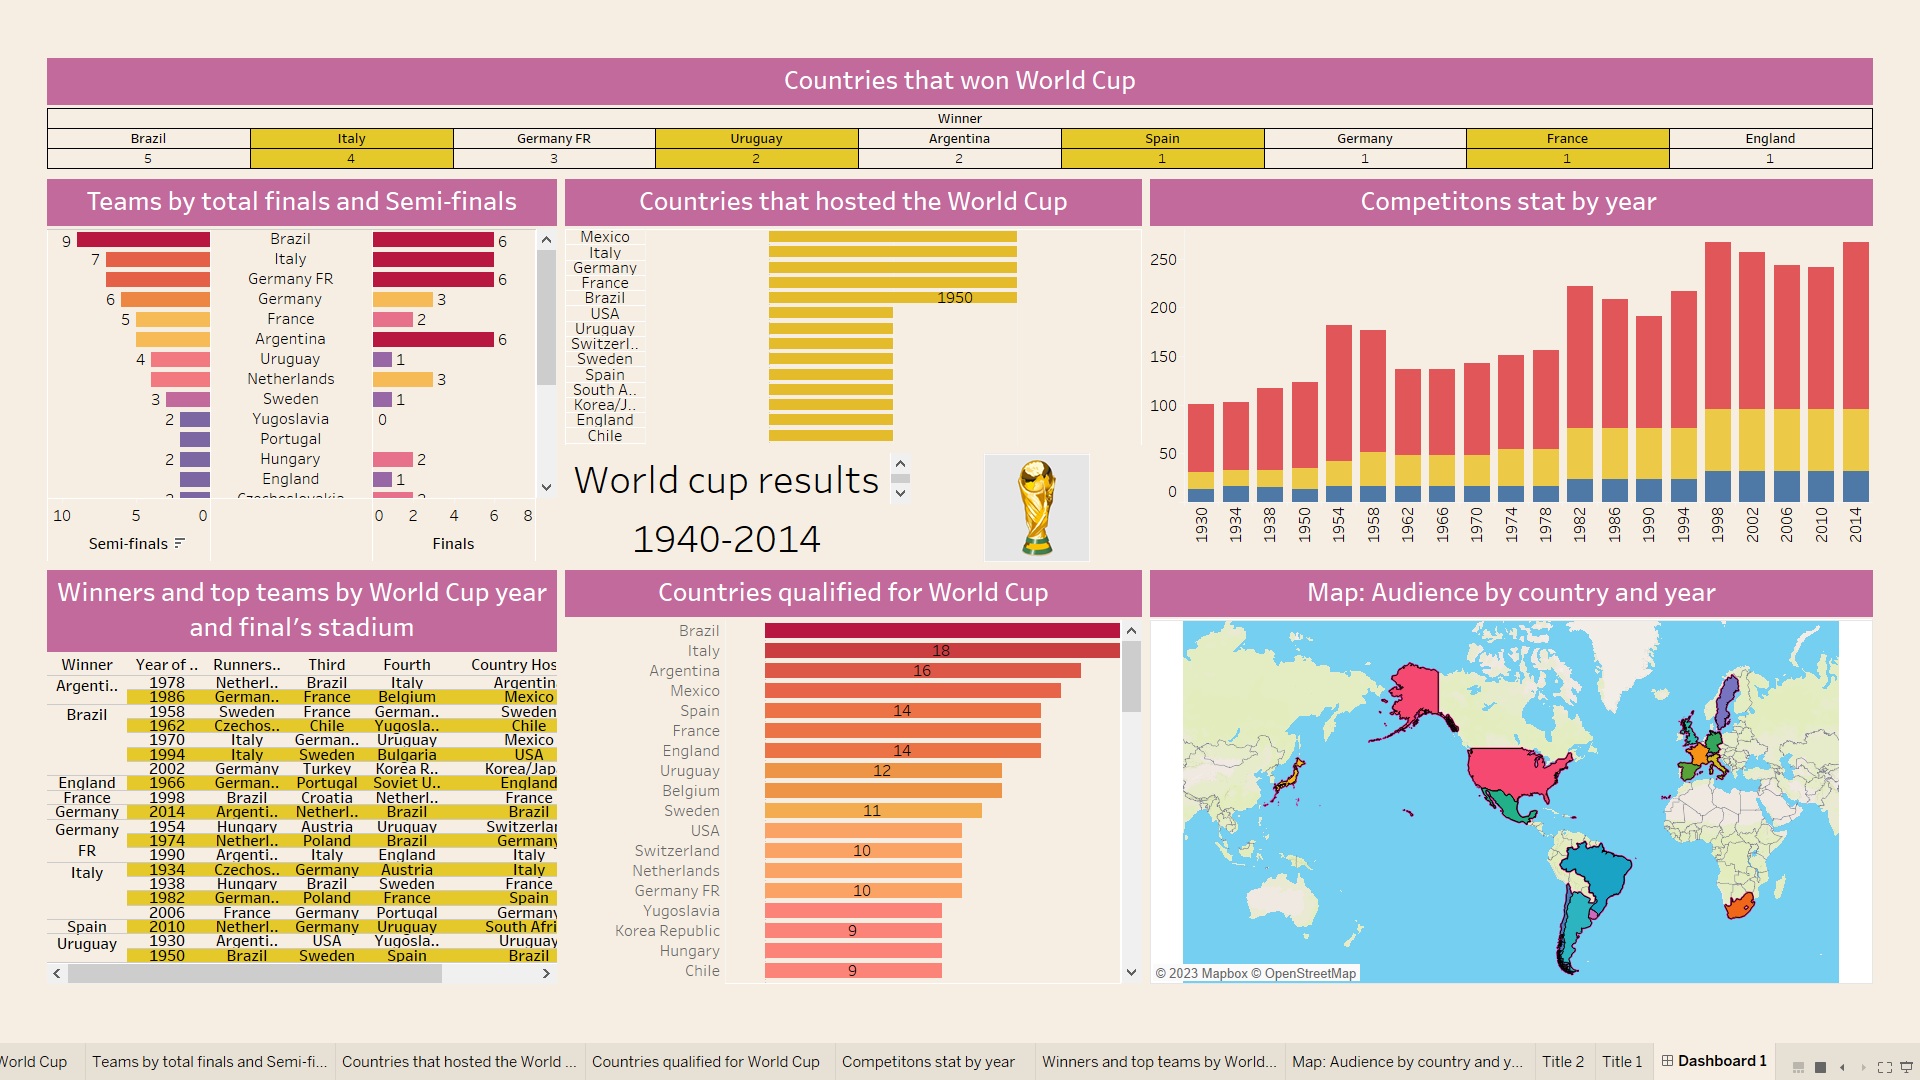

Layout of this report page (visuals, bound fields, positions):
{"tool":"tableau","page":{"name":"Dashboard 1","canvas":[1850,1250],"ordinal":0},"visuals":[{"type":"worksheet","title":"Countries that won World Cup","mark":"Automatic","cols":["Winner"],"box":[8,8,1834,119]},{"type":"worksheet","title":"Teams by total finals and Semi-finals","mark":"Automatic","rows":["Team"],"cols":["Calculation_705376306582773761","Calculation_705376306583203843","Calculation_705376306582179840"],"box":[8,127,518,557.5]},{"type":"worksheet","title":"Countries that hosted the World Cup","mark":"Automatic","rows":["Country"],"cols":["Country"],"box":[526,127,585,403]},{"type":"worksheet","title":"Competitons stat by year ","mark":"Bar","cols":["Year"],"box":[1111,127,731,557.5]},{"type":"worksheet","title":"Title 1","mark":"Automatic","box":[526,530,367,77.5]},{"type":"image","param":"Image/Screenshot 2023-04-15 224549.jpg","box":[893,530,218,155]},{"type":"worksheet","title":"Title 2","mark":"Automatic","box":[526,607.5,367,77.5]},{"type":"worksheet","title":"Winners and top teams by World Cup year and final's stadium","mark":"Automatic","rows":["Winner","Year","Runners-Up","Third","Fourth","Country"],"box":[8,684.5,518,557.5]},{"type":"worksheet","title":"Map: Audience by country and year","mark":"Multipolygon","box":[1111,684.5,731,557.5]},{"type":"worksheet","title":"Countries qualified for World Cup","mark":"Automatic","rows":["Team"],"cols":["Year (World Cup - Tableau format)"],"box":[526,685,585,557]}]}

Visuals, with their boxes on the page's 1850x1250 design canvas (x1, y1, x2, y2). These are canvas units, not pixel positions in the 1920x1080 screenshot, which may show the page scaled, cropped or inside an application window:
"Countries that won World Cup" worksheet: (8, 8, 1842, 127)
"Teams by total finals and Semi-finals" worksheet: (8, 127, 526, 684)
"Countries that hosted the World Cup" worksheet: (526, 127, 1111, 530)
"Competitons stat by year " worksheet (Bar marks): (1111, 127, 1842, 684)
"Title 1" worksheet: (526, 530, 893, 608)
image: (893, 530, 1111, 685)
"Title 2" worksheet: (526, 608, 893, 685)
"Winners and top teams by World Cup year and final's stadium" worksheet: (8, 684, 526, 1242)
"Map: Audience by country and year" worksheet (Multipolygon marks): (1111, 684, 1842, 1242)
"Countries qualified for World Cup" worksheet: (526, 685, 1111, 1242)
